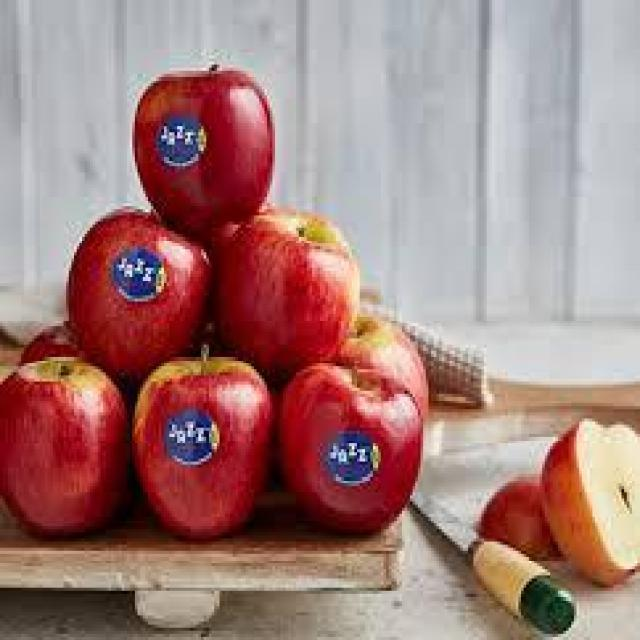Fresh Apple: (7, 352, 140, 543), (140, 360, 277, 530), (290, 382, 437, 528), (210, 230, 360, 362), (75, 217, 210, 363), (138, 94, 284, 218)
Rotten: (550, 420, 640, 568)
